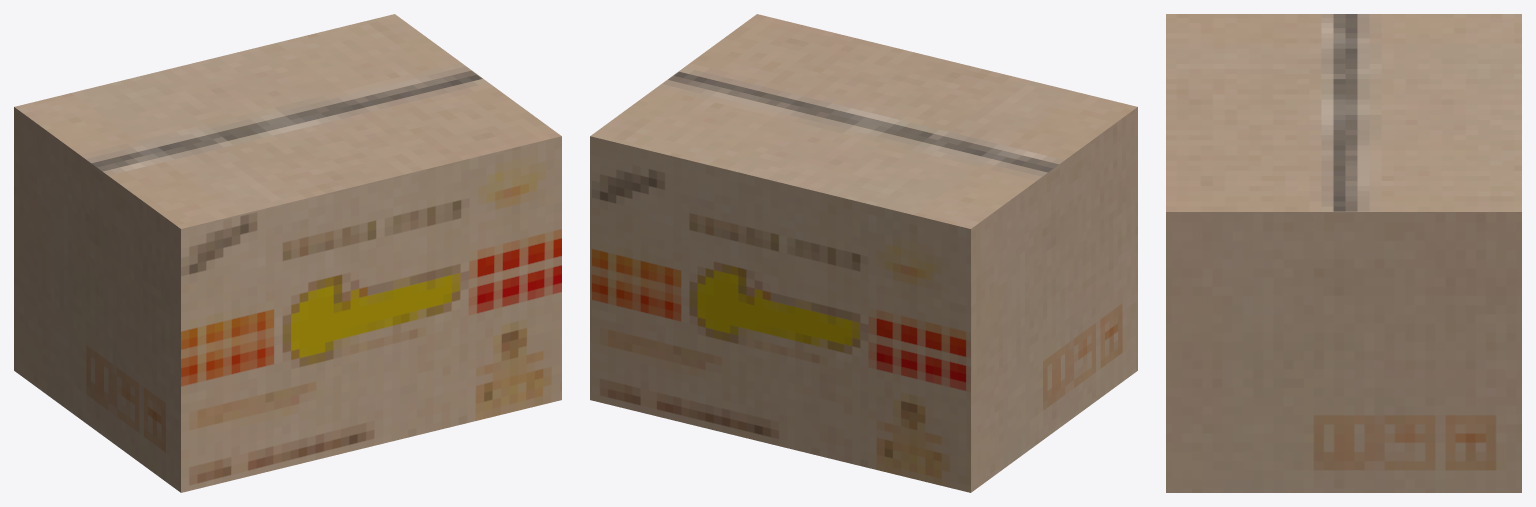
File: box variation1.fbx
3 views of the same model, side by side, from view 1: azimuth 30°, elevation 25°; view 2: azimuth 150°, elevation 25°; view 3: azimuth 270°, elevation 25° (orthographic). The views are drawn at different scales.
Visible parts, largest first — view 1: Cube; view 2: Cube; view 3: Cube.
Boxes of the visible parts, left/top/right/bottom form: Cube: left=14, top=14, right=561, bottom=492; Cube: left=590, top=14, right=1137, bottom=492; Cube: left=1166, top=14, right=1521, bottom=492.
Bounding box in the file's own units: 38.69 × 25.62 × 29.38.
